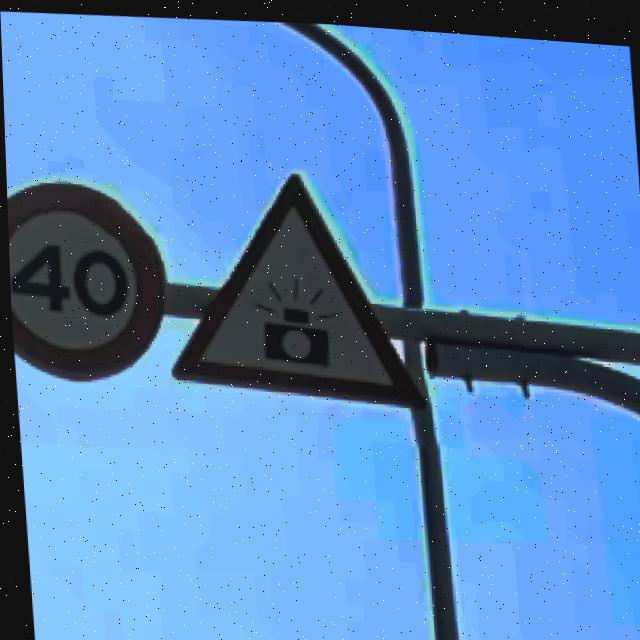speedcamera: (169, 169, 423, 404)
